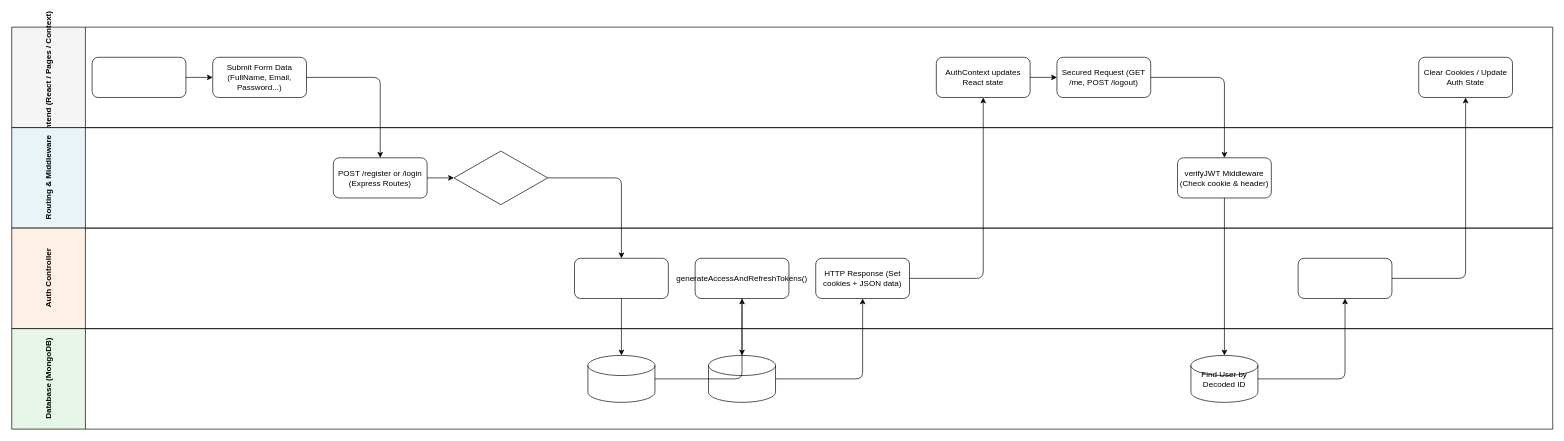
Some shapes in this 1564 by 441 pixel diagram are drawn without their labels. The centre of each missing label's shape, as x and y in pixels:
"auth.controller (registerUser / loginUser)" goes at point 621,278.
"Controller (getCurrentUser / logoutUser)" goes at point 1344,278.
"Find / Create User Record" goes at point 621,378.
"Save RefreshToken in DB" goes at point 742,378.
"User registers or logins (UI Forms)" goes at point 138,77.
"Zod Validator (registerSchema / loginSchema)" goes at point 500,177.
